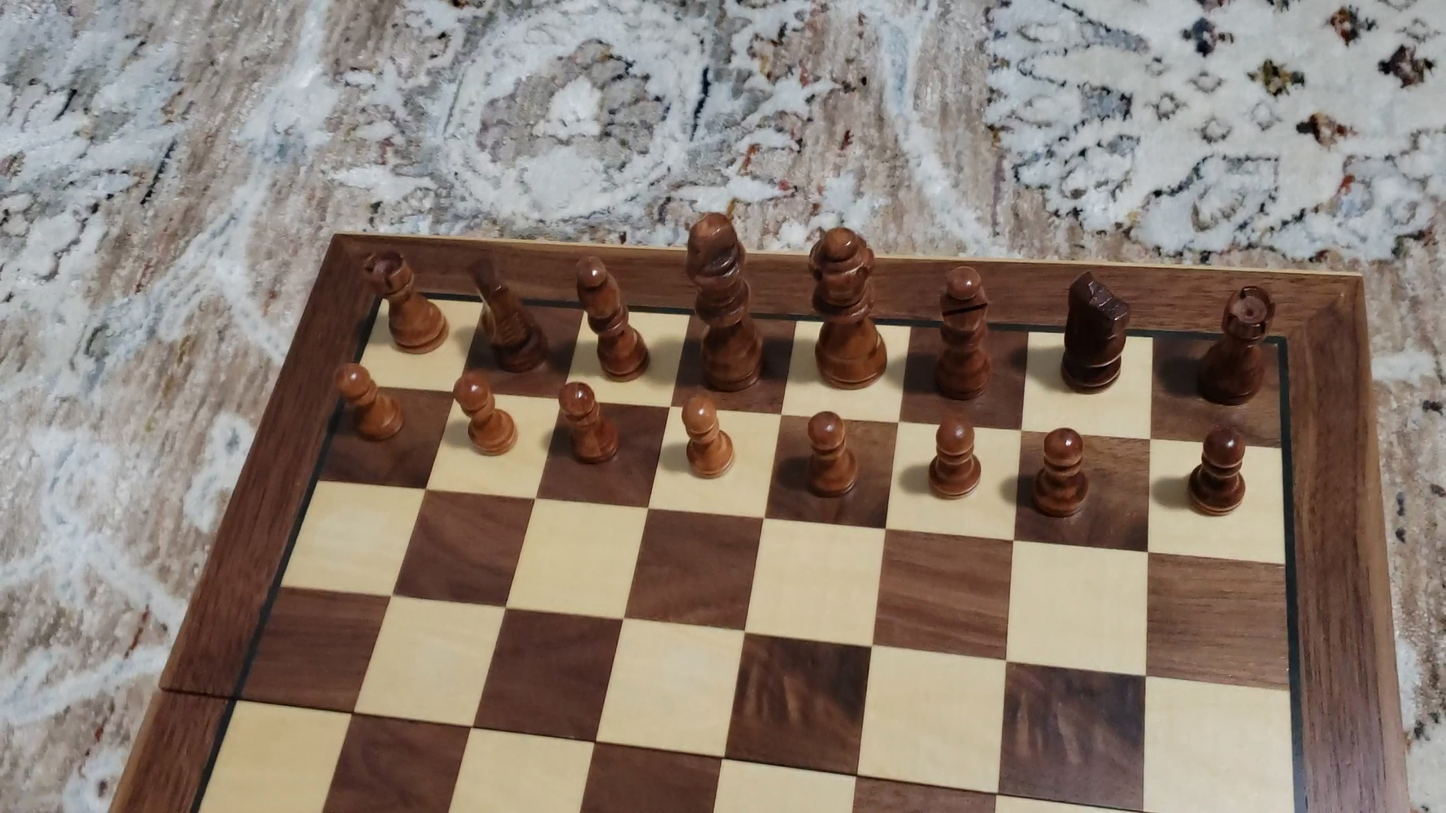black-bishop: (573, 252, 650, 380), (934, 262, 993, 400)
black-king: (679, 199, 766, 394)
black-knight: (468, 248, 548, 373), (1059, 268, 1134, 394)
black-pawn: (331, 359, 407, 444), (1185, 423, 1251, 519), (1030, 424, 1092, 523), (450, 370, 518, 458), (553, 380, 620, 467), (925, 410, 984, 502), (679, 388, 736, 482), (803, 407, 860, 500)
black-queen: (803, 222, 890, 388)
black-rook: (1193, 282, 1277, 406), (363, 250, 446, 354)
